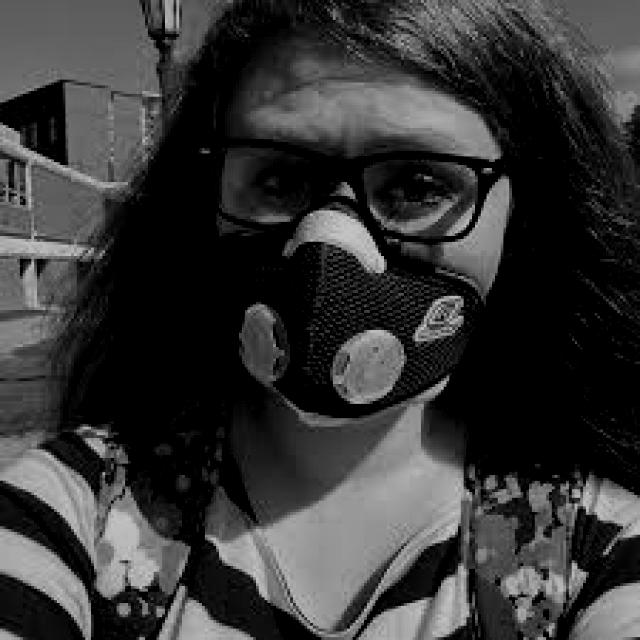fake: (192, 194, 526, 448)
real: (210, 40, 503, 431)
